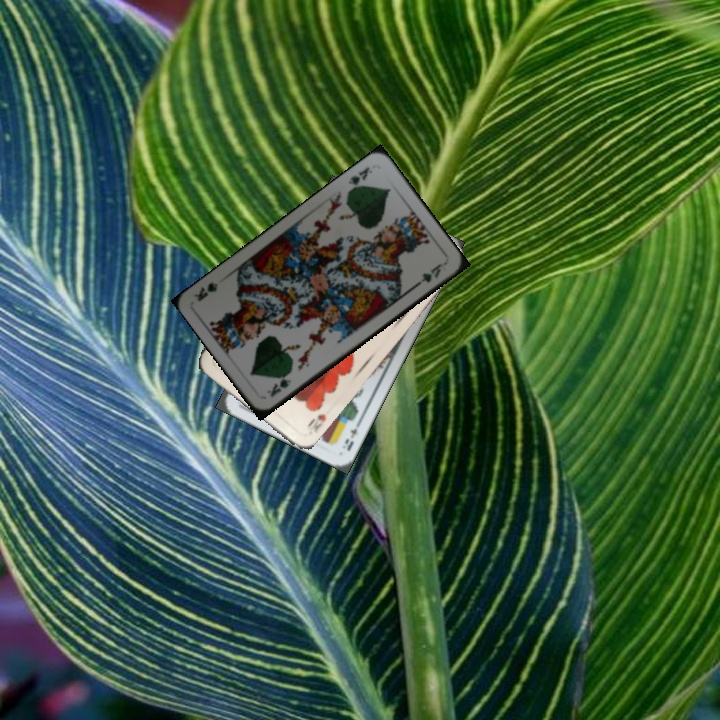EK: (338, 417, 364, 454)
GK: (263, 368, 294, 399), (344, 163, 375, 194)
H10: (303, 409, 329, 436)
